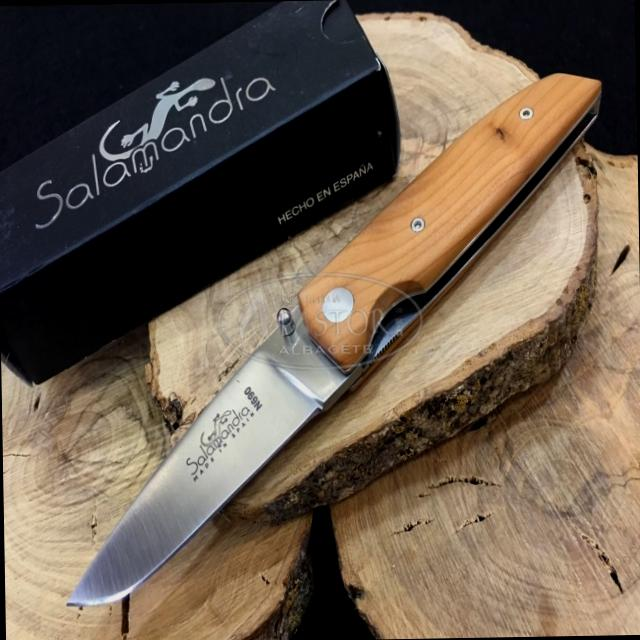knife: (51, 288, 366, 614)
